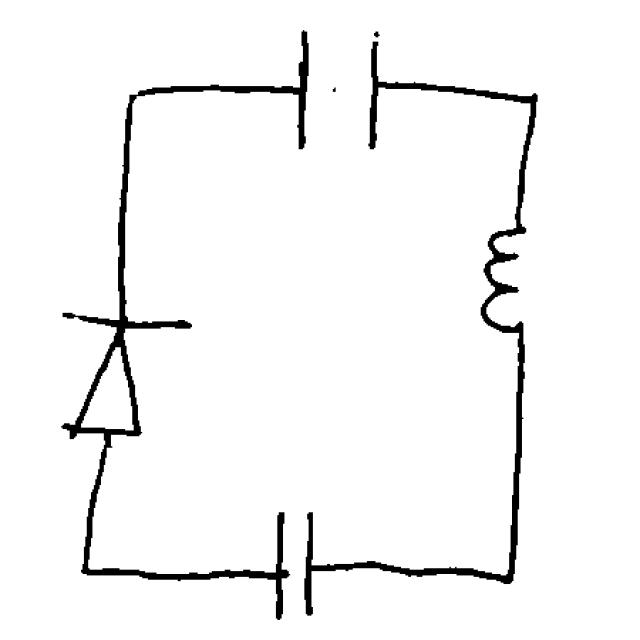capacitor: (280, 18, 398, 172), (247, 494, 332, 626)
diode: (42, 290, 202, 460)
inductor: (465, 213, 543, 356)
